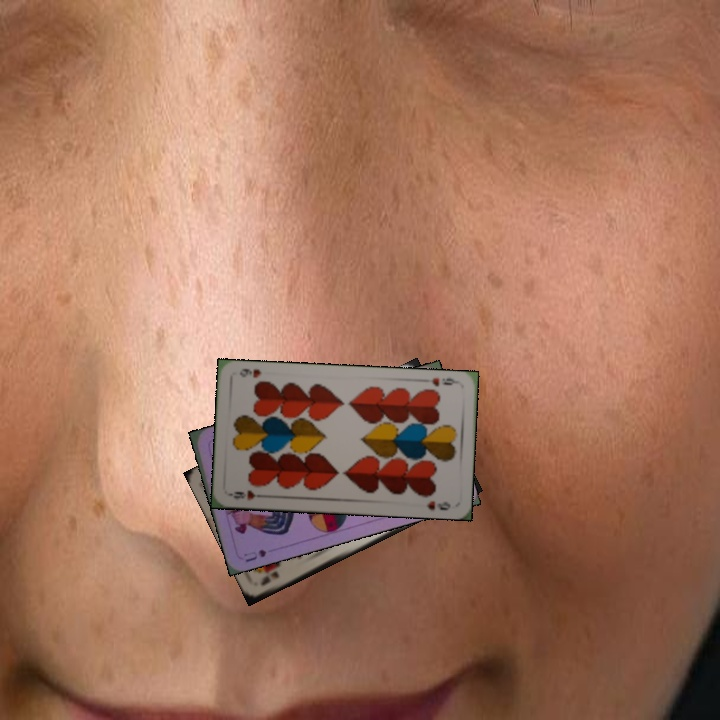H9: (227, 486, 267, 503), (421, 373, 461, 389)
SK: (256, 567, 281, 588)
SU: (240, 545, 269, 565)
